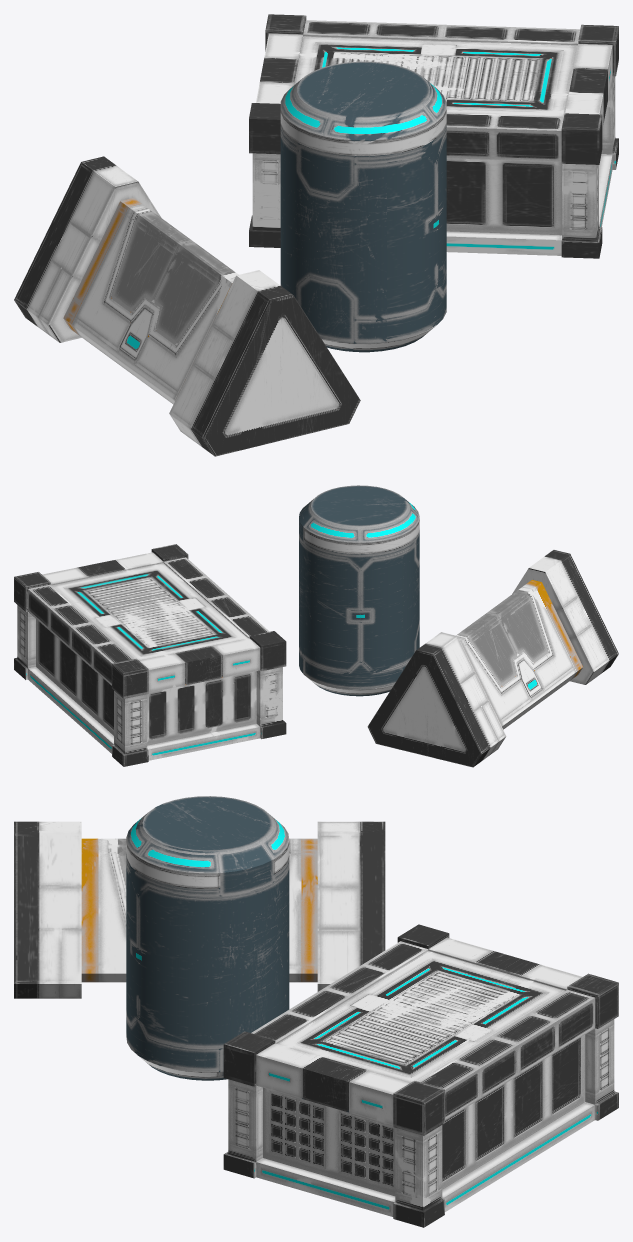
File: Boxes.fbx
The picture shows the model from 3 angles, top to bottom: view 1: azimuth 30°, elevation 25°; view 2: azimuth 150°, elevation 25°; view 3: azimuth 270°, elevation 25°; orthographic projection. The views are drawn at different scales.
Parts seen in each view (by area): view 1: SciFiBox2; view 2: SciFiBox2; view 3: SciFiBox2.
Boxes of the visible parts, left/top/right/bottom form: SciFiBox2: left=14, top=14, right=618, bottom=456; SciFiBox2: left=14, top=485, right=618, bottom=767; SciFiBox2: left=14, top=796, right=618, bottom=1227.
Size of the model in its own units: 418 by 150 by 359.
